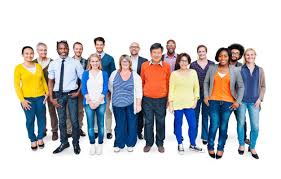person: (205, 49, 237, 119), (170, 53, 199, 125), (141, 41, 172, 92), (49, 38, 83, 84), (110, 54, 143, 98), (13, 47, 45, 90), (237, 47, 268, 88), (80, 53, 111, 93)
